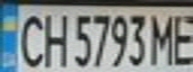3: (127, 10, 151, 67)
5: (69, 10, 93, 67)
7: (90, 10, 112, 67)
9: (109, 10, 133, 67)
C: (9, 10, 48, 69)
E: (166, 9, 193, 66)
H: (36, 8, 72, 69)
M: (148, 10, 181, 66)
